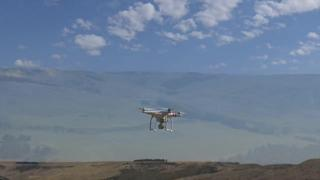UAV: (138, 108, 187, 132)
